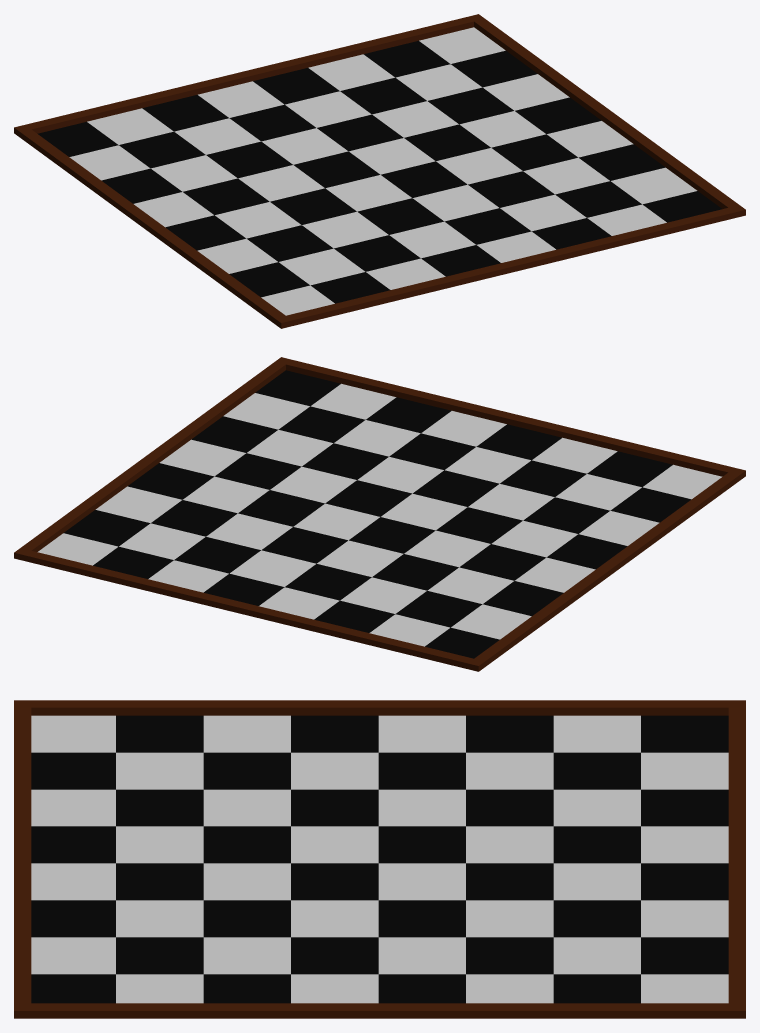
Rendered from table.obj.
The picture shows the model from 3 angles, top to bottom: view 1: azimuth 30°, elevation 25°; view 2: azimuth 150°, elevation 25°; view 3: azimuth 270°, elevation 25°; orthographic projection. The views are drawn at different scales.
Parts seen in each view (by area): view 1: Tabu_Plane.064, Cube.003, Cube.002, Cube.001, Cube; view 2: Tabu_Plane.064, Cube.002, Cube.003, Cube, Cube.001; view 3: Tabu_Plane.064, Cube.001, Cube, Cube.002, Cube.003.
Boxes of the visible parts, x1,y1,x2,y2 form: Tabu_Plane.064: [37, 27, 722, 315]; Cube.003: [275, 207, 734, 328]; Cube.002: [25, 14, 484, 133]; Cube.001: [474, 19, 745, 217]; Cube: [14, 125, 285, 323]; Tabu_Plane.064: [37, 370, 722, 658]; Cube.002: [14, 548, 473, 668]; Cube.003: [286, 360, 745, 480]; Cube: [467, 472, 739, 671]; Cube.001: [21, 357, 291, 551]; Tabu_Plane.064: [31, 715, 728, 1003]; Cube.001: [14, 1003, 728, 1018]; Cube: [31, 700, 745, 715]; Cube.002: [728, 707, 745, 1018]; Cube.003: [14, 700, 31, 1003].
Bounding box in the file's own units: 2 × 0.0238 × 1.99.
